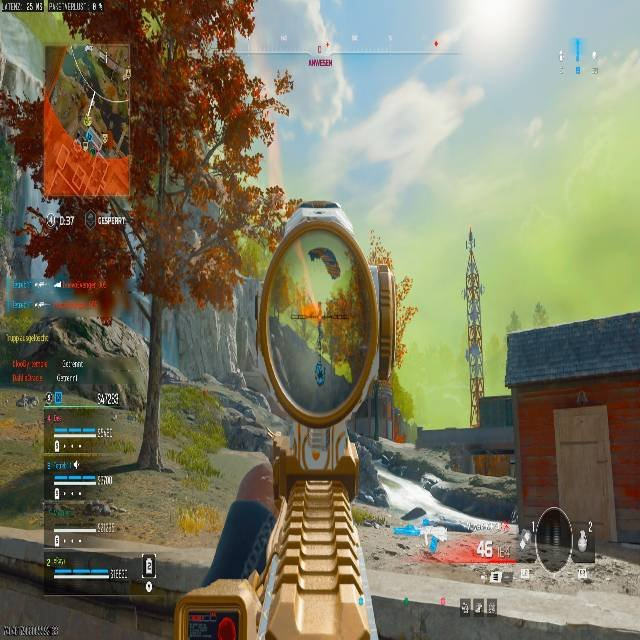player: (313, 361, 325, 385)
